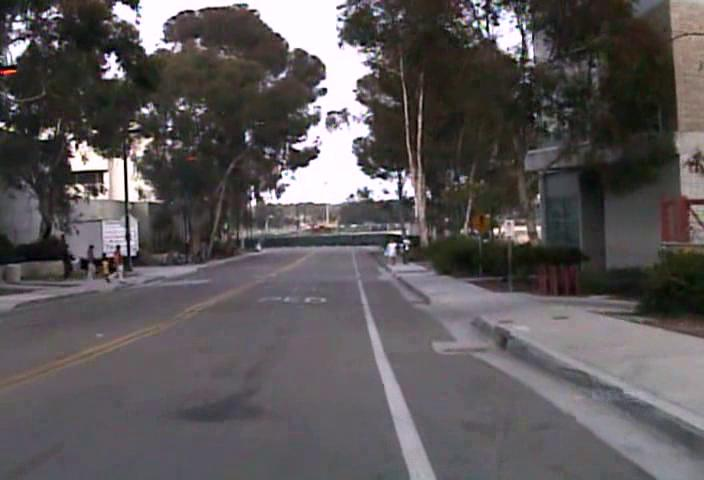pedestrianCrossing: (470, 206, 492, 237)
